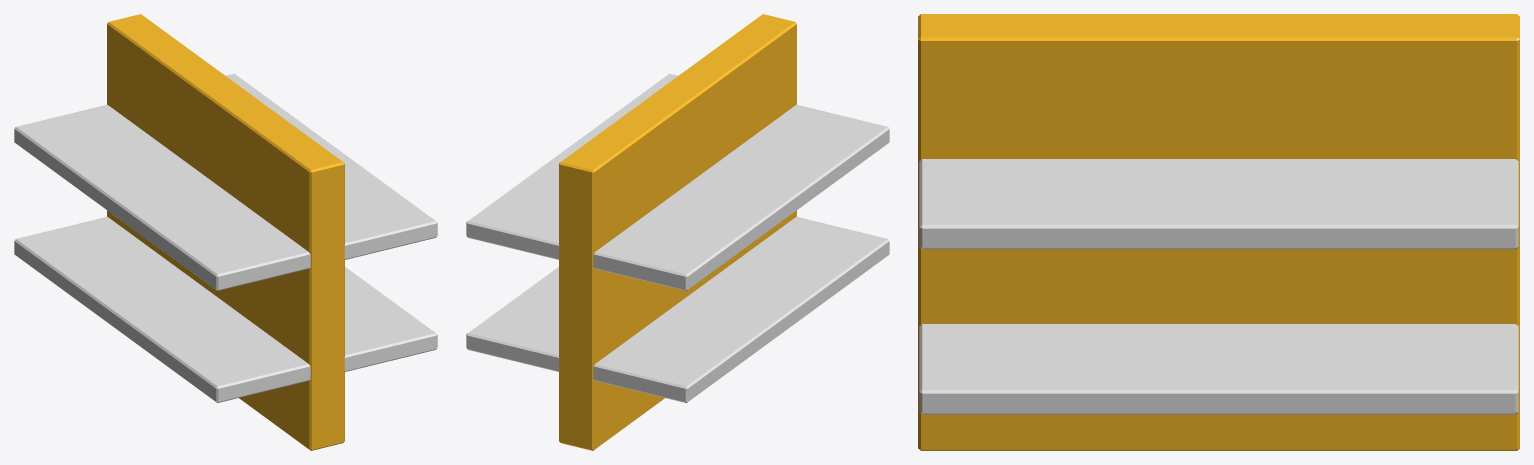
Rendered from hatshelf.fbx.
The picture shows the model from 3 angles, left to right: view 1: azimuth 30°, elevation 25°; view 2: azimuth 150°, elevation 25°; view 3: azimuth 270°, elevation 25°; orthographic projection. The views are drawn at different scales.
Parts seen in each view (by area): view 1: Cube.047; view 2: Cube.047; view 3: Cube.047.
Boxes of the visible parts, <box> form: Cube.047: <box>14,14,437,450</box>; Cube.047: <box>466,14,889,450</box>; Cube.047: <box>918,14,1519,450</box>.
Size of the model in its own units: 2.09 by 2.53 by 3.33.
